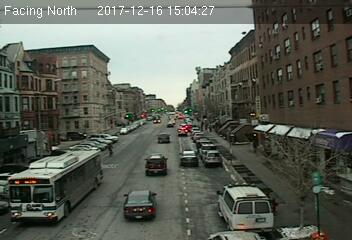bus: (9, 149, 103, 224)
car: (121, 188, 159, 221), (145, 154, 167, 174), (203, 149, 221, 167), (178, 150, 198, 166), (156, 134, 171, 145), (176, 127, 189, 135)
police: (216, 179, 277, 233)
